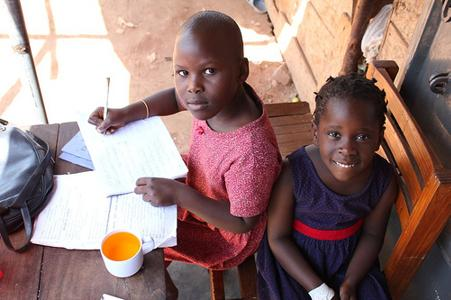person: (87, 12, 285, 272)
